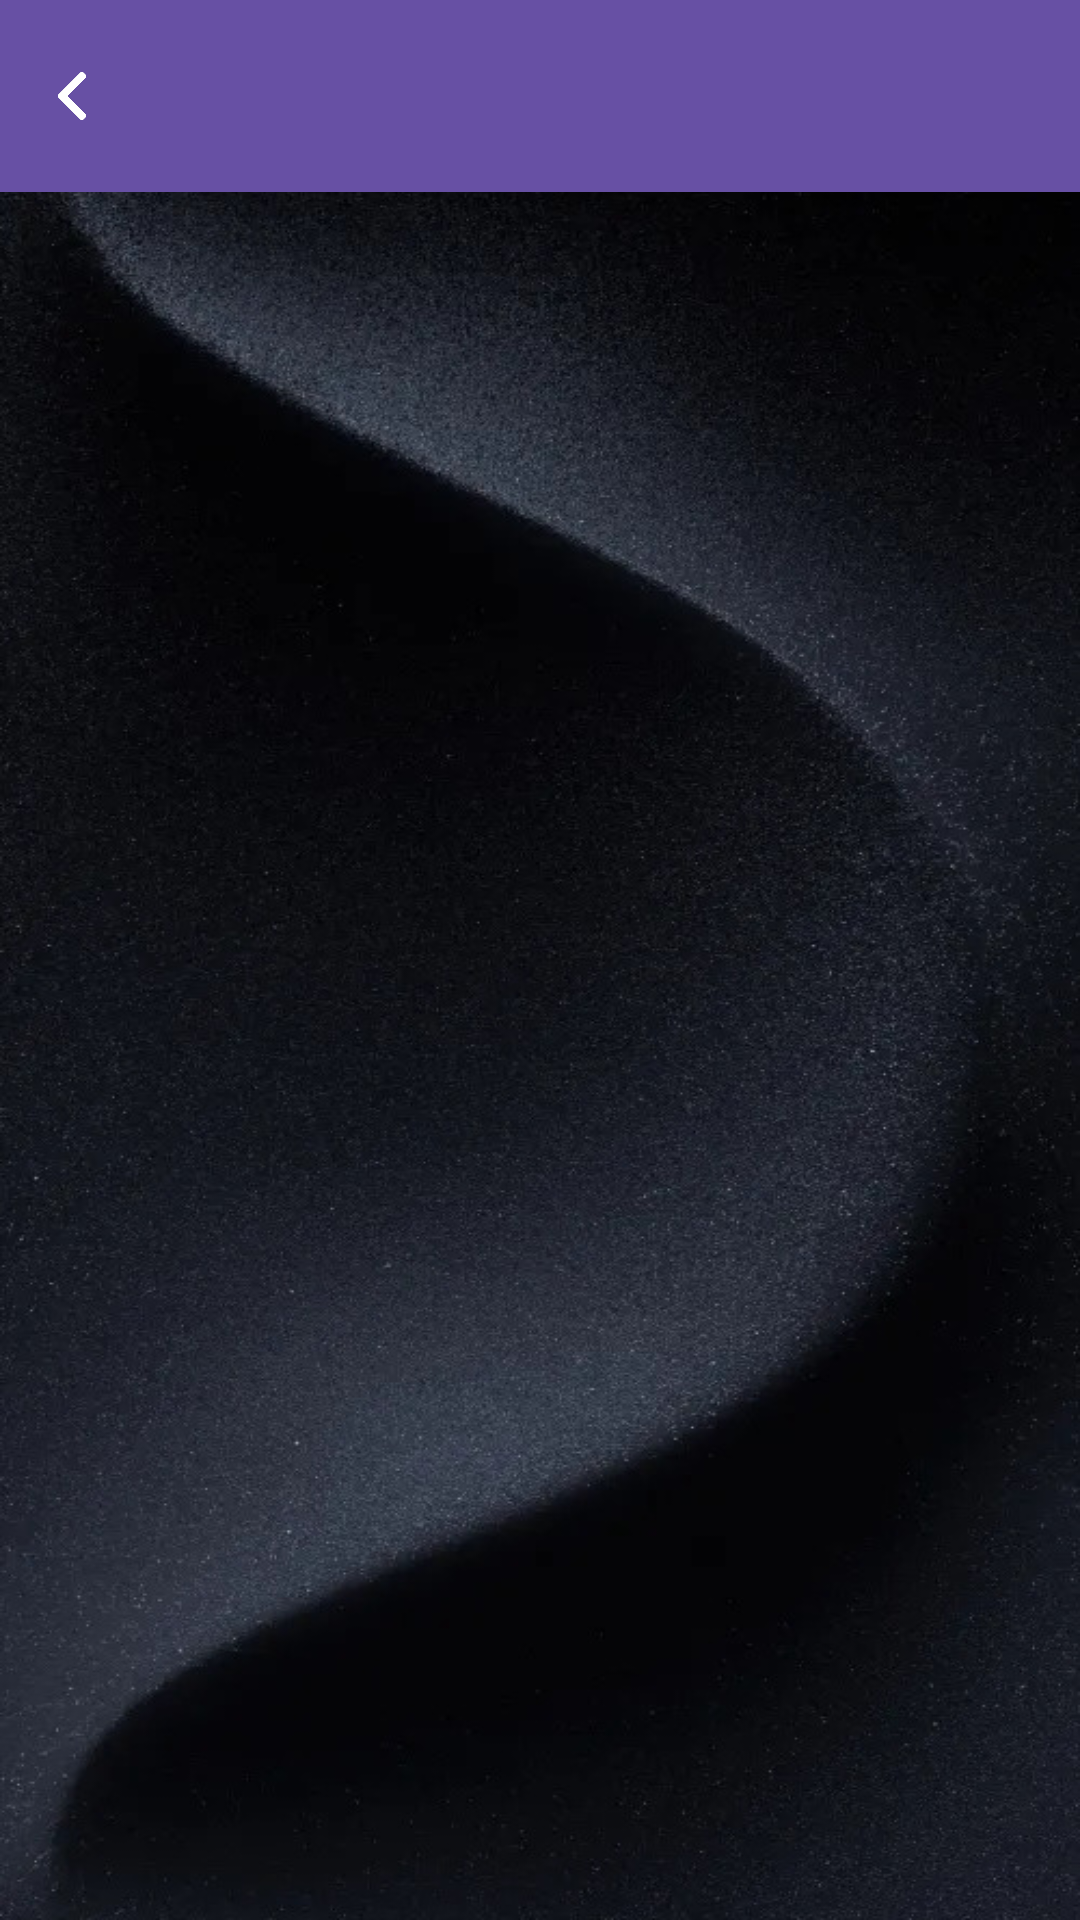

Icons on this 1080w x 1920h Android screen, each with its box as (left=x1, top=y1, right=x2, bottom=y2):
arrow back: (left=58, top=72, right=86, bottom=120)
